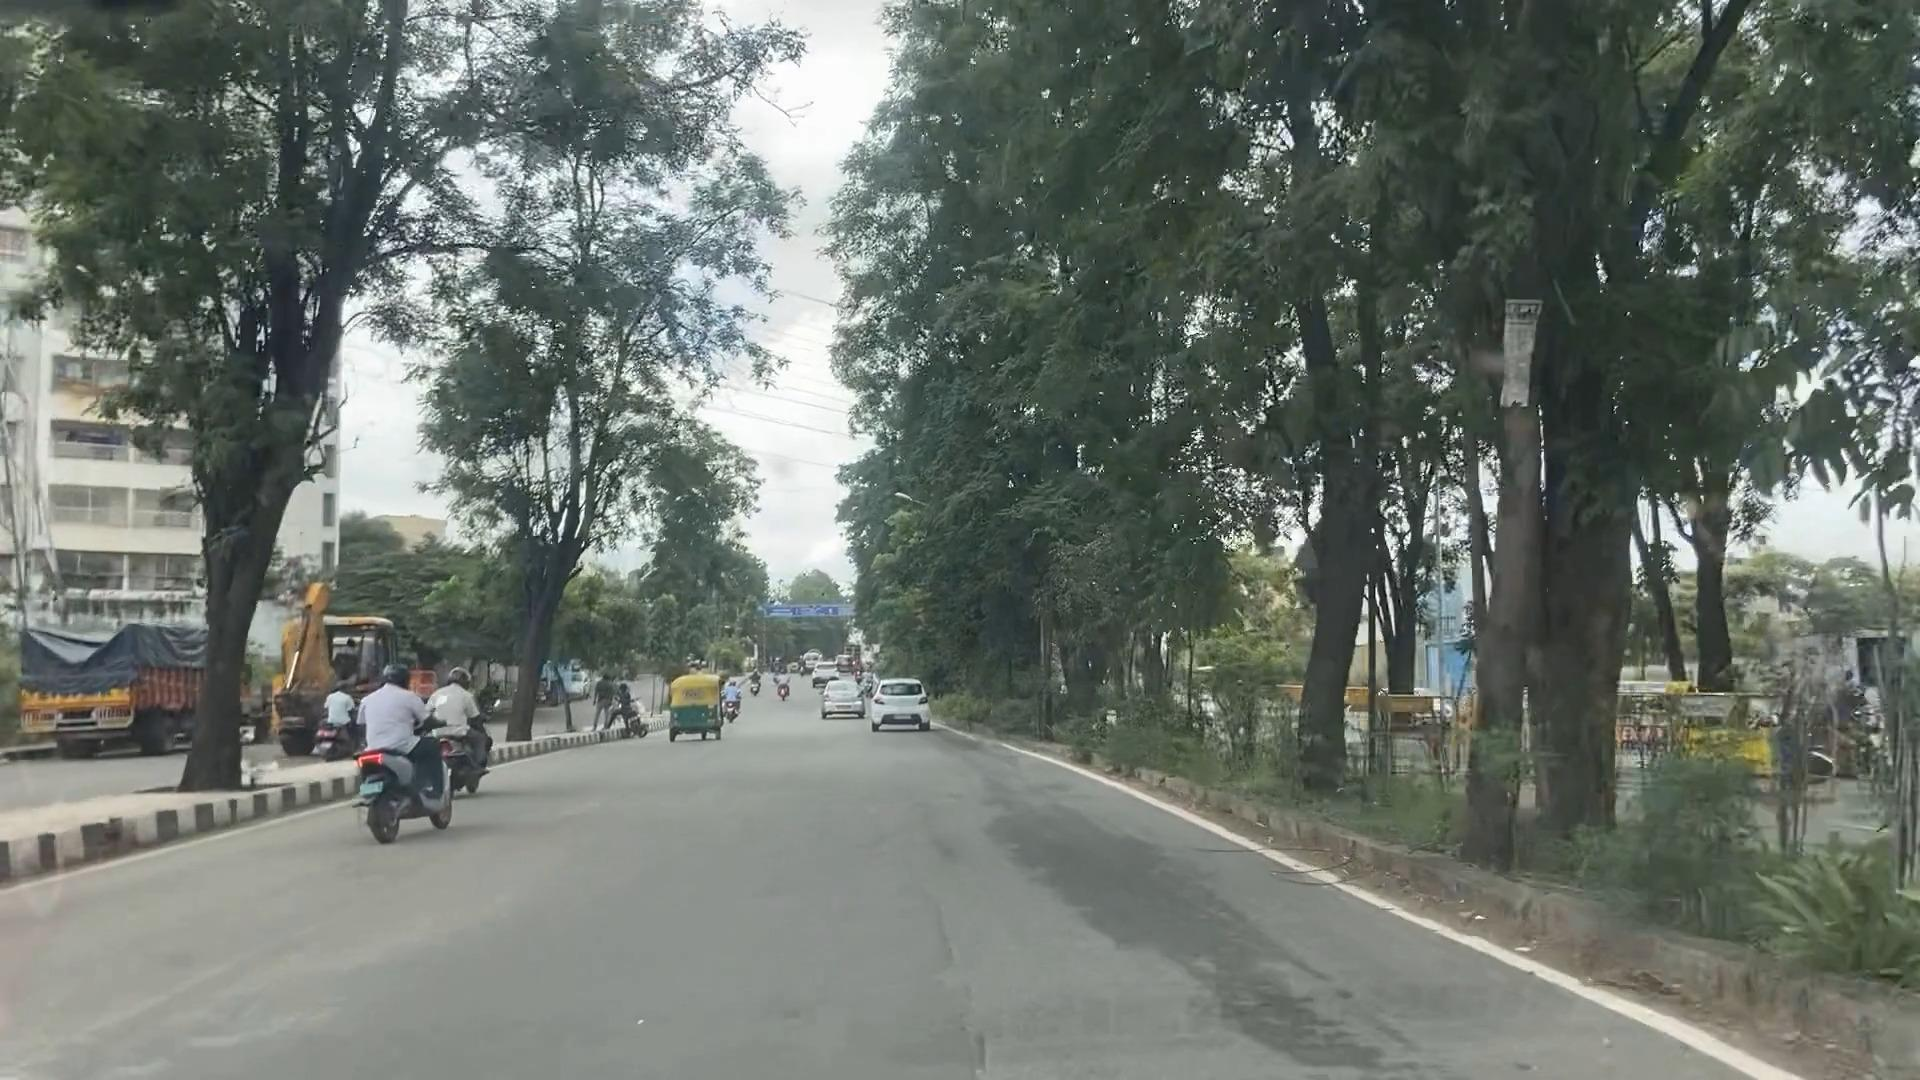LMV: (364, 662, 441, 832), (672, 674, 722, 742), (876, 676, 931, 737), (822, 678, 864, 720)
RoadDamages: (1136, 900, 1350, 1062), (908, 874, 1020, 1080), (984, 742, 1076, 868)
